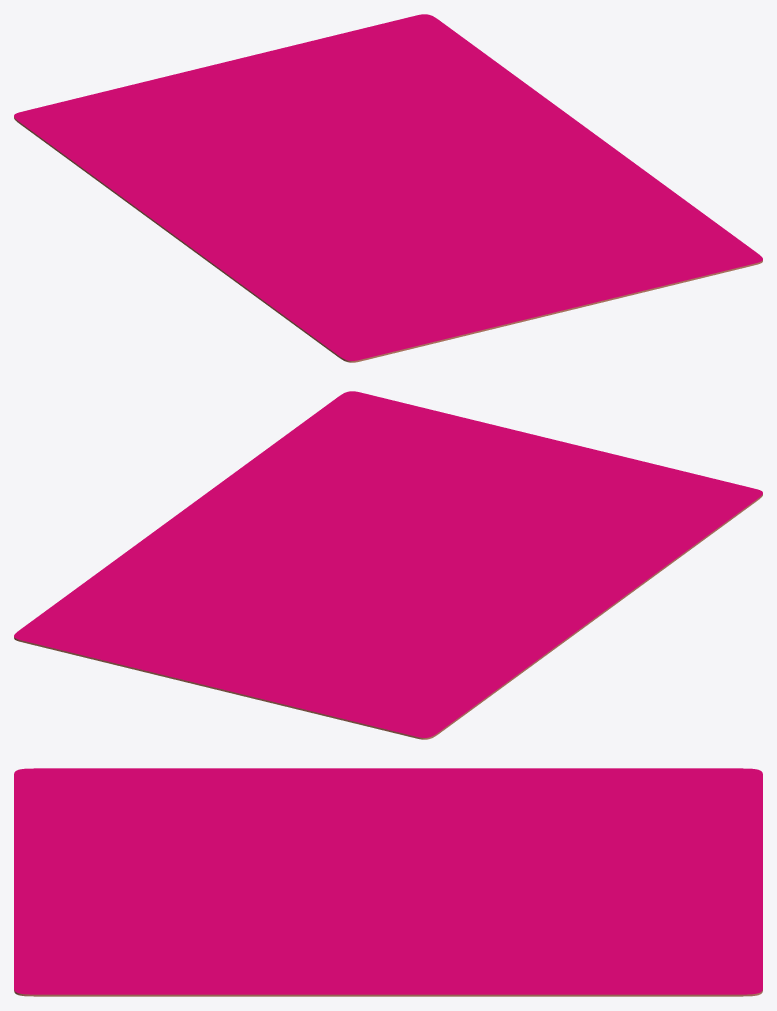
Rendered from Card Blank.fbx.
3 views of the same model, one above another, from view 1: azimuth 30°, elevation 25°; view 2: azimuth 150°, elevation 25°; view 3: azimuth 270°, elevation 25° (orthographic). The views are drawn at different scales.
Parts seen in each view (by area): view 1: Cube; view 2: Cube; view 3: Cube.
Part boxes in pixels (left/top/right/bottom): Cube: left=14, top=14, right=762, bottom=362; Cube: left=14, top=391, right=762, bottom=739; Cube: left=14, top=768, right=762, bottom=996.
Size of the model in its own units: 500 by 2 by 700.
